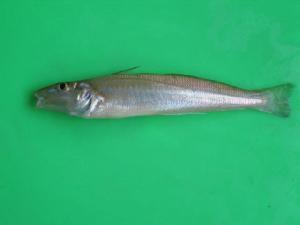kiss: (29, 64, 295, 125)
